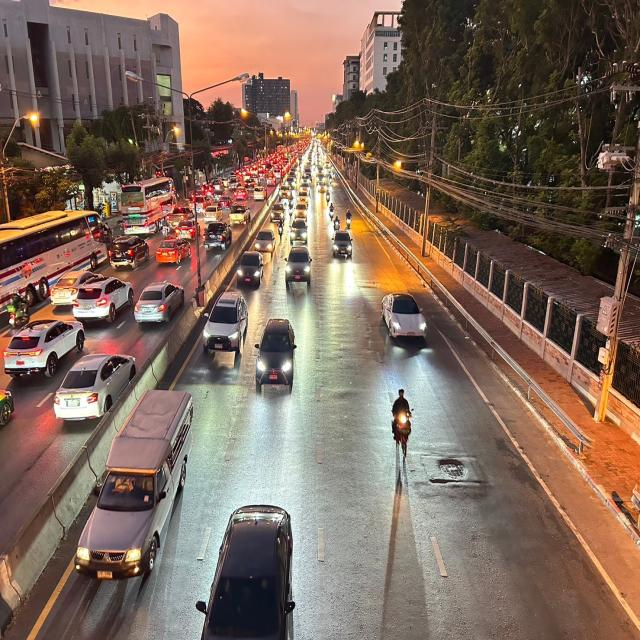bike: (387, 378, 415, 466)
truck: (71, 384, 195, 591)
